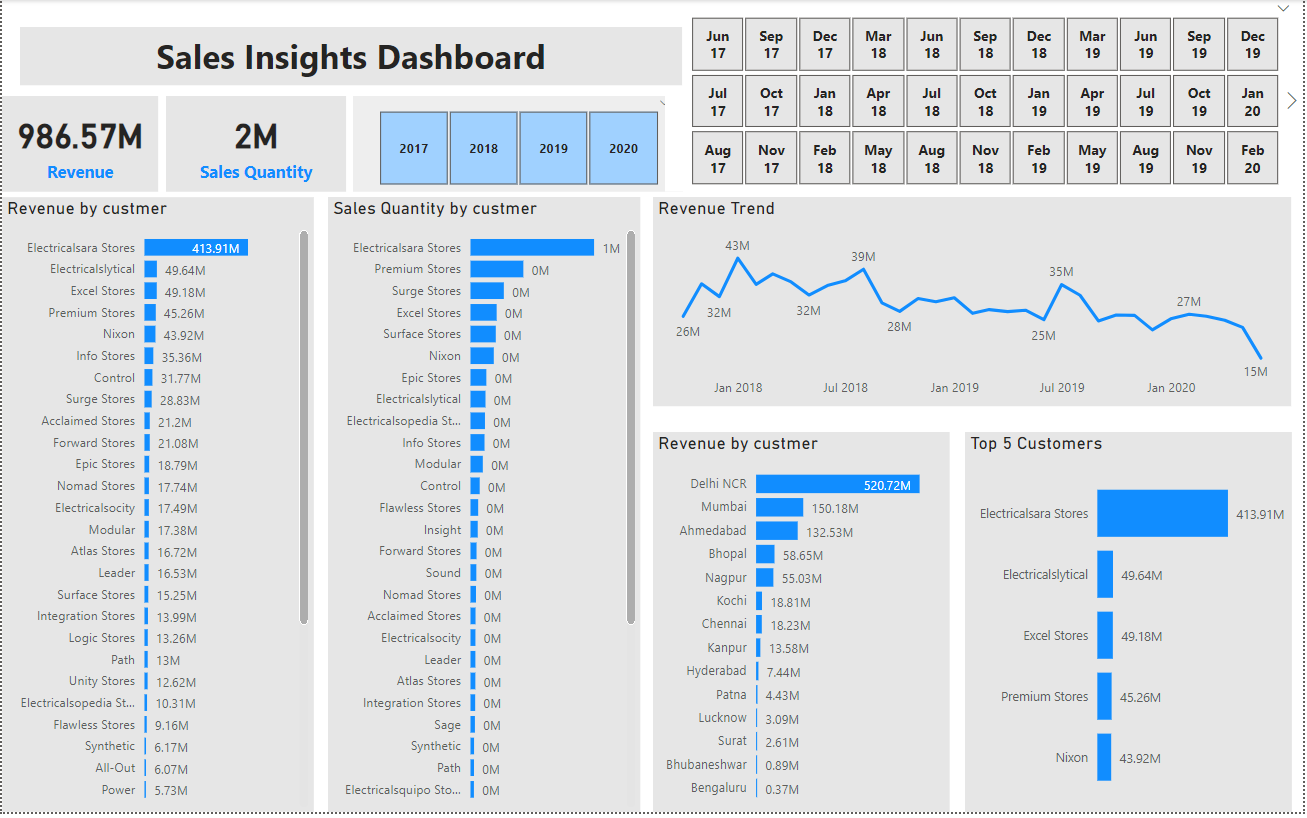

The dashboard page shown, as its layout file describes it:
{"tool":"powerbi","page":{"name":"Page 1","canvas":[1250,780],"ordinal":0},"visuals":[{"type":"card","fields":{"Values":["BaseMeasures.Revenue"]},"box":[0,92.1,149.7,92.1],"z":0},{"type":"card","fields":{"Values":["BaseMeasures.Sales Quantity"]},"box":[157.3,92.1,172.7,92.1],"z":1000},{"type":"barChart","title":"Revenue by custmer","fields":{"Y":["BaseMeasures.Revenue"],"Category":["sales customers.custmer_name"]},"box":[0,189,299.3,591],"z":2000},{"type":"barChart","title":"Sales Quantity by custmer","fields":{"Category":["sales customers.custmer_name"],"Y":["BaseMeasures.Sales Quantity"]},"box":[312.8,189,300.3,591],"z":3000},{"type":"slicer","fields":{"Values":["sales date.year"]},"box":[336.8,92.1,316.6,92.1],"z":4000},{"type":"slicer","fields":{"Values":["sales date.cy_date"]},"box":[637,0,613.1,184.2],"z":5000},{"type":"barChart","title":"Revenue by custmer","fields":{"Y":["BaseMeasures.Revenue"],"Category":["sales markets.markets_name"]},"box":[625.5,415.4,284.9,364.6],"z":6000},{"type":"barChart","title":"Top 5 Customers","fields":{"Y":["BaseMeasures.Revenue"],"Category":["sales customers.custmer_name"]},"box":[924.9,415.4,313.7,364.6],"z":7000},{"type":"lineChart","title":"Revenue Trend","fields":{"Y":["BaseMeasures.Revenue"],"Category":["sales date.cy_date.Variation.Date Hierarchy.Year","sales date.cy_date.Variation.Date Hierarchy.Quarter","sales date.cy_date.Variation.Date Hierarchy.Month","sales date.cy_date.Variation.Date Hierarchy.Day"]},"box":[625.5,189,613.1,201.5],"z":8000},{"type":"textbox","box":[17.3,25.9,636.1,55.6],"z":8001}]}

Visuals, with their boxes in screenshot pixels (x1, y1, x2, y2), scaled from the page's 1250x780 canvas onto the 1307x818 screenshot:
card - BaseMeasures.Revenue: detection(0, 97, 157, 193)
card - BaseMeasures.Sales Quantity: detection(164, 97, 345, 193)
"Revenue by custmer" barChart: detection(0, 198, 313, 817)
"Sales Quantity by custmer" barChart: detection(327, 198, 641, 817)
slicer - sales date.year: detection(352, 97, 683, 193)
slicer - sales date.cy_date: detection(666, 0, 1306, 193)
"Revenue by custmer" barChart: detection(654, 436, 952, 817)
"Top 5 Customers" barChart: detection(967, 436, 1295, 817)
"Revenue Trend" lineChart: detection(654, 198, 1295, 410)
textbox: detection(18, 27, 683, 85)
